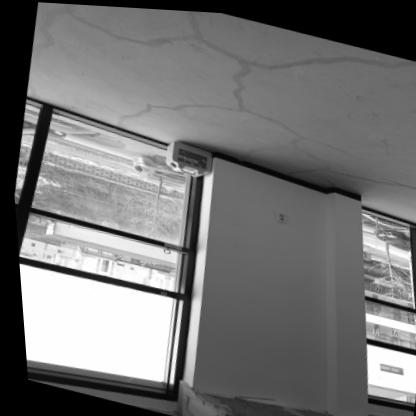DDL: (161, 137, 209, 173)
